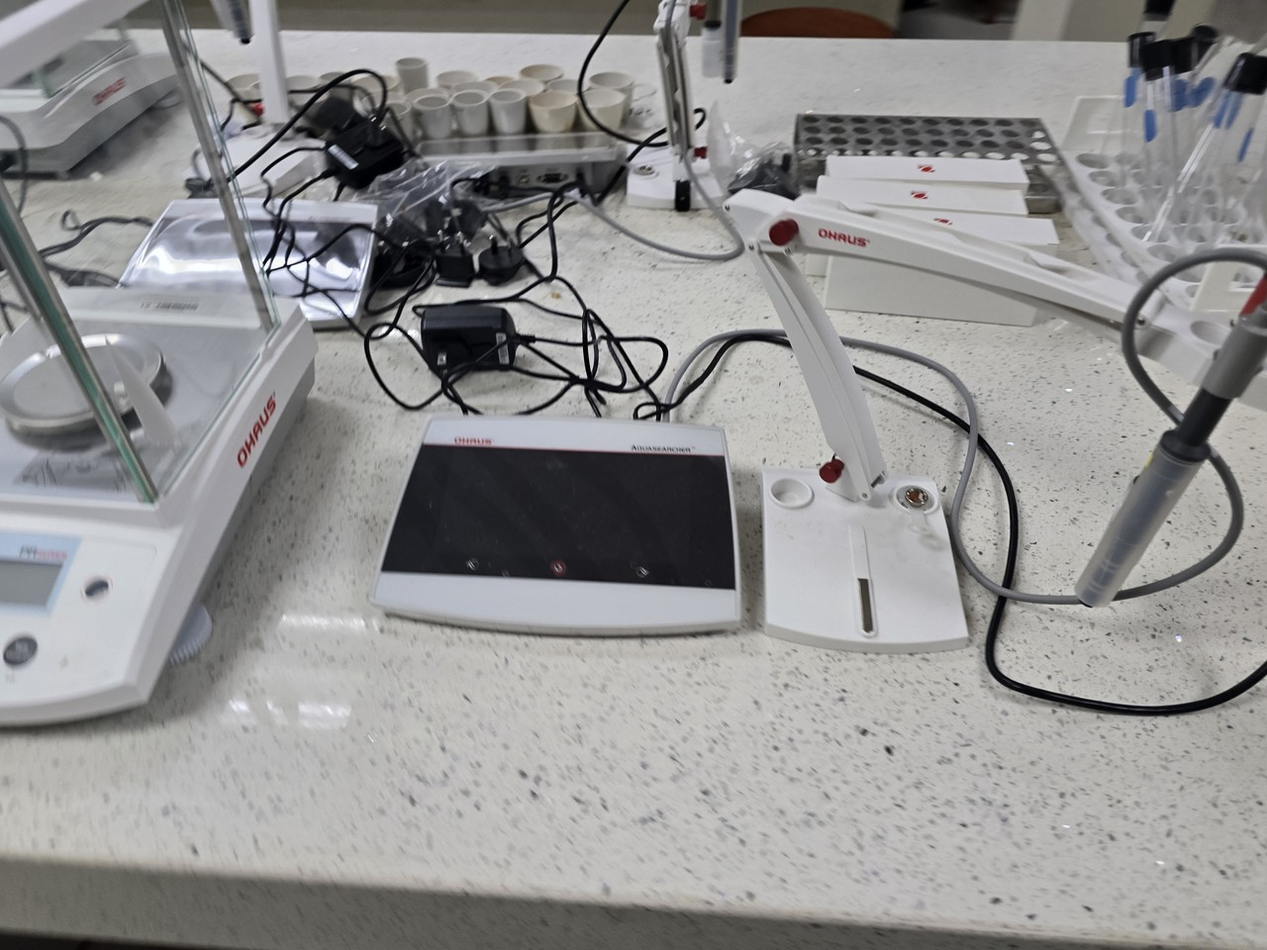aquasearcher_ab33m1: (335, 200, 1259, 733)
